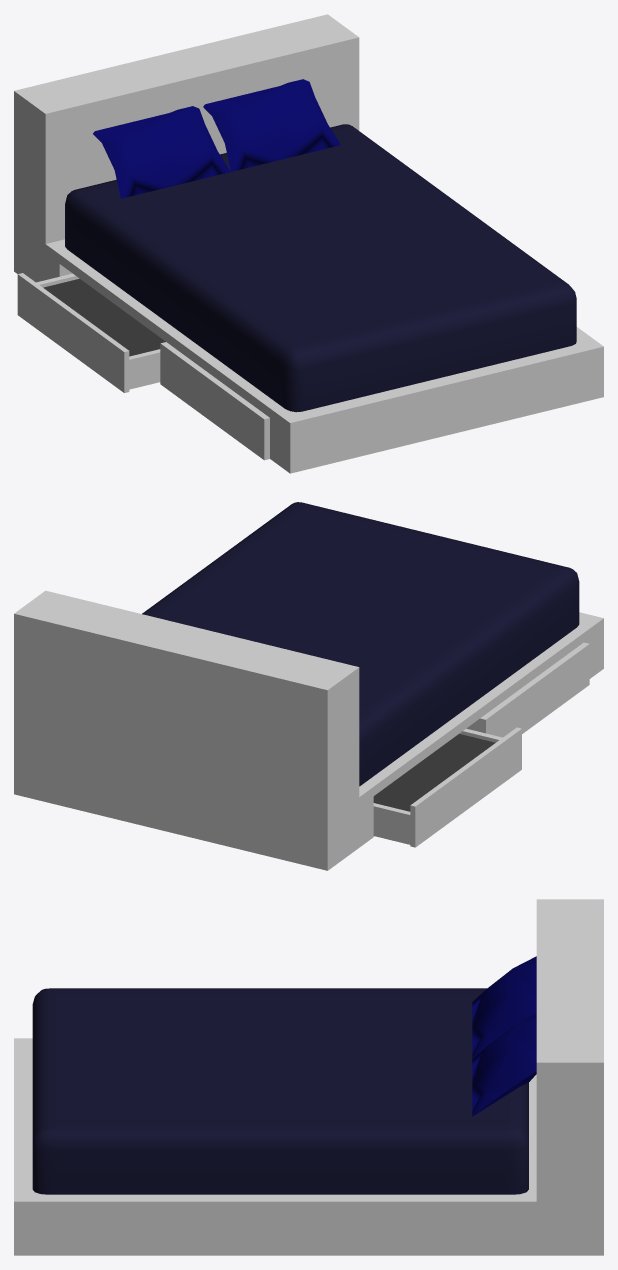
The picture shows the model from 3 angles, top to bottom: view 1: azimuth 30°, elevation 25°; view 2: azimuth 150°, elevation 25°; view 3: azimuth 270°, elevation 25°; orthographic projection. The views are drawn at different scales.
Visible parts, largest first — view 1: Mesh14 MattressInside1 Mattress1 Model, Mesh17 BedFrameHeadboard1 Model, Mesh19 Model, Mesh11 MattressBottom2 Mattress1 Model, Mesh8 MattressSide1 Mattress1 Model, Mesh18 BedFrameBase1 Model, Mesh16 Pillow_copy_001 Model, Mesh15 Pillow1 Model, Mesh10 MattressSide2 Mattress1 Model, Mesh7 MatressCorner2 Mattress1 Model, Mesh5 MatressCorner1 Mattress1 Model, Mesh12 MatressCorner4 Mattress1 Model; view 2: Mesh17 BedFrameHeadboard1 Model, Mesh14 MattressInside1 Mattress1 Model, Mesh19 Model, Mesh8 MattressSide1 Mattress1 Model, Mesh18 BedFrameBase1 Model, Mesh10 MattressSide2 Mattress1 Model, Mesh11 MattressBottom2 Mattress1 Model, Mesh7 MatressCorner2 Mattress1 Model; view 3: Mesh14 MattressInside1 Mattress1 Model, Mesh10 MattressSide2 Mattress1 Model, Mesh19 Model, Mesh17 BedFrameHeadboard1 Model, Mesh18 BedFrameBase1 Model, Mesh16 Pillow_copy_001 Model, Mesh15 Pillow1 Model, Mesh11 MattressBottom2 Mattress1 Model, Mesh8 MattressSide1 Mattress1 Model, Mesh5 MatressCorner1 Mattress1 Model, Mesh9 MatressCorner3 Mattress1 Model, Mesh6 MattressBottom1 Mattress1 Model.
Boxes of the visible parts, left/top/right/bottom form: Mesh14 MattressInside1 Mattress1 Model: left=94, top=131, right=547, bottom=343; Mesh17 BedFrameHeadboard1 Model: left=14, top=14, right=359, bottom=282; Mesh19 Model: left=17, top=250, right=603, bottom=473; Mesh11 MattressBottom2 Mattress1 Model: left=301, top=283, right=560, bottom=408; Mesh8 MattressSide1 Mattress1 Model: left=72, top=192, right=300, bottom=404; Mesh18 BedFrameBase1 Model: left=45, top=239, right=603, bottom=428; Mesh16 Pillow_copy_001 Model: left=203, top=79, right=340, bottom=171; Mesh15 Pillow1 Model: left=93, top=106, right=230, bottom=198; Mesh10 MattressSide2 Mattress1 Model: left=341, top=128, right=563, bottom=283; Mesh7 MatressCorner2 Mattress1 Model: left=279, top=344, right=313, bottom=412; Mesh5 MatressCorner1 Mattress1 Model: left=548, top=280, right=576, bottom=348; Mesh12 MatressCorner4 Mattress1 Model: left=65, top=187, right=93, bottom=252; Mesh17 BedFrameHeadboard1 Model: left=14, top=590, right=359, bottom=870; Mesh14 MattressInside1 Mattress1 Model: left=156, top=509, right=549, bottom=709; Mesh19 Model: left=359, top=624, right=603, bottom=847; Mesh8 MattressSide1 Mattress1 Model: left=359, top=569, right=571, bottom=782; Mesh18 BedFrameBase1 Model: left=359, top=612, right=603, bottom=802; Mesh10 MattressSide2 Mattress1 Model: left=142, top=506, right=303, bottom=617; Mesh11 MattressBottom2 Mattress1 Model: left=304, top=505, right=558, bottom=569; Mesh7 MatressCorner2 Mattress1 Model: left=551, top=565, right=579, bottom=630; Mesh14 MattressInside1 Mattress1 Model: left=59, top=995, right=502, bottom=1123; Mesh10 MattressSide2 Mattress1 Model: left=59, top=1123, right=502, bottom=1194; Mesh19 Model: left=14, top=1207, right=543, bottom=1255; Mesh17 BedFrameHeadboard1 Model: left=536, top=899, right=603, bottom=1255; Mesh18 BedFrameBase1 Model: left=14, top=1038, right=536, bottom=1207; Mesh16 Pillow_copy_001 Model: left=472, top=1014, right=536, bottom=1116; Mesh15 Pillow1 Model: left=472, top=956, right=536, bottom=1058; Mesh11 MattressBottom2 Mattress1 Model: left=32, top=995, right=59, bottom=1137; Mesh8 MattressSide1 Mattress1 Model: left=59, top=988, right=486, bottom=994; Mesh5 MatressCorner1 Mattress1 Model: left=32, top=1123, right=59, bottom=1194; Mesh9 MatressCorner3 Mattress1 Model: left=502, top=1123, right=528, bottom=1194; Mesh6 MattressBottom1 Mattress1 Model: left=502, top=1082, right=528, bottom=1138.
Bounding box in the file's own units: 1684 × 817 × 2265.
